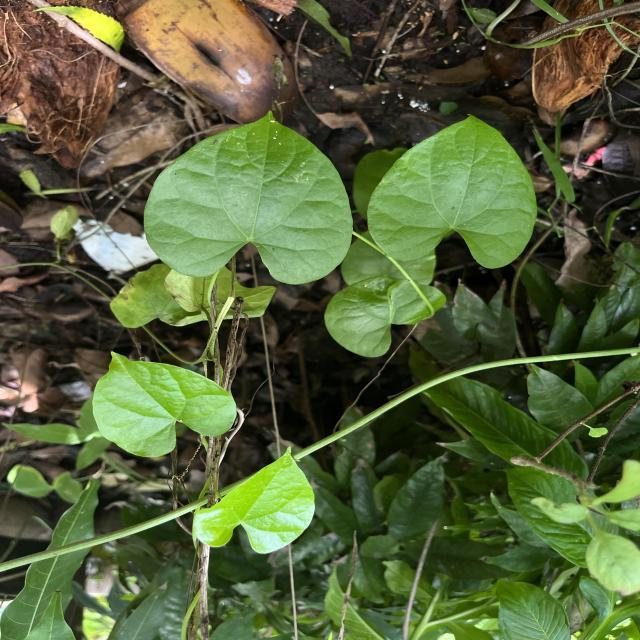Tinospora cordifolia: (140, 108, 354, 288), (363, 112, 540, 272), (89, 348, 239, 458), (190, 444, 318, 556)
